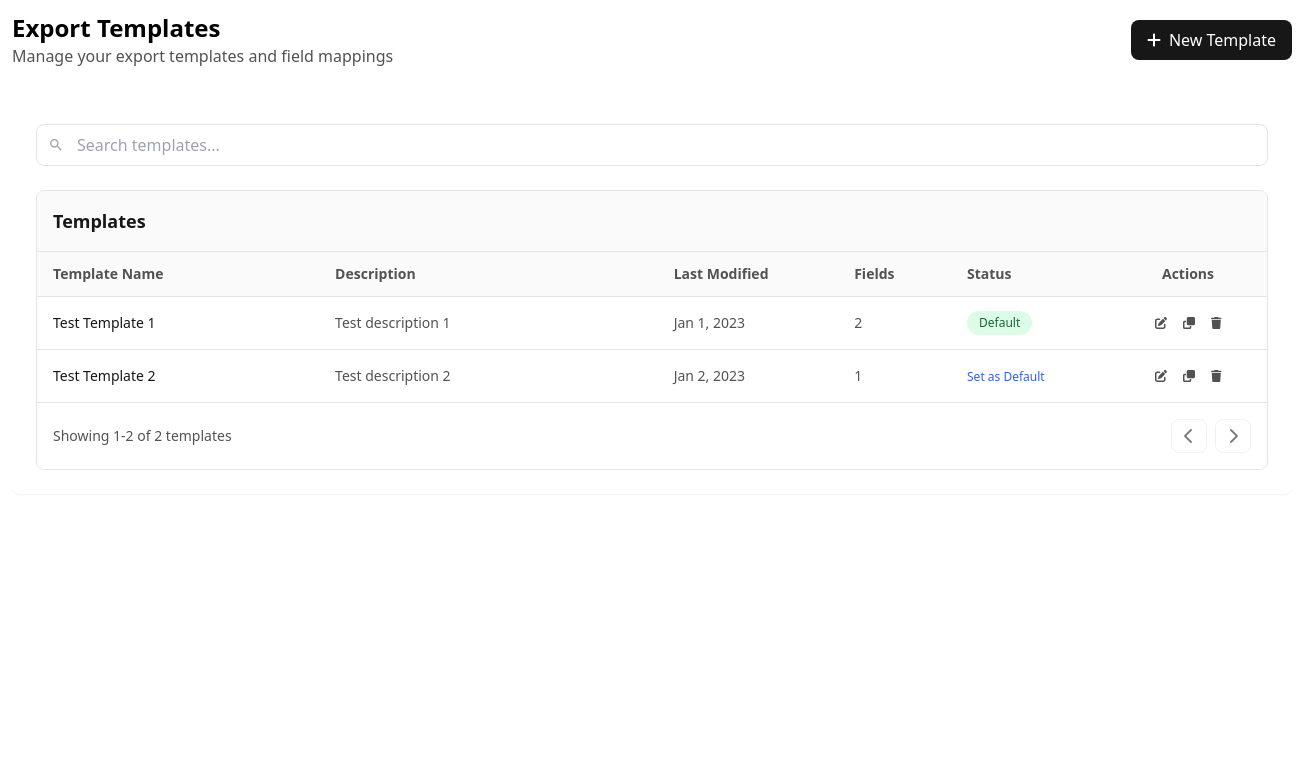
Test case: ExportTemplatesPage › New Template Creation › should show new template editor when "New Template" is clicked
This screenshot has width=1304, height=782.
Click the button "New Template" at coordinates (1211, 40), box [1131, 20, 1292, 60]
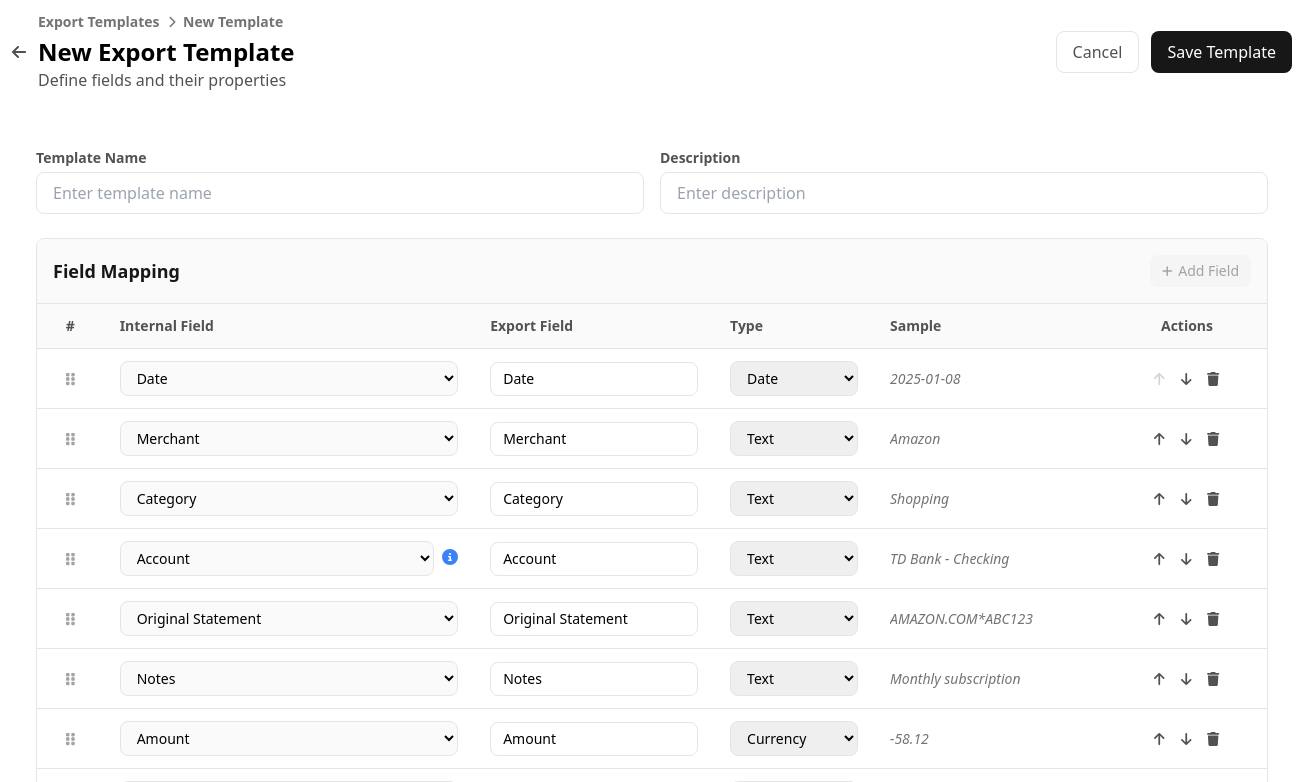
Check: the heading "New Export Template" is shown, box [38, 36, 294, 68]
Check: the text "Define fields and their properties" is shown, box [38, 68, 294, 92]
